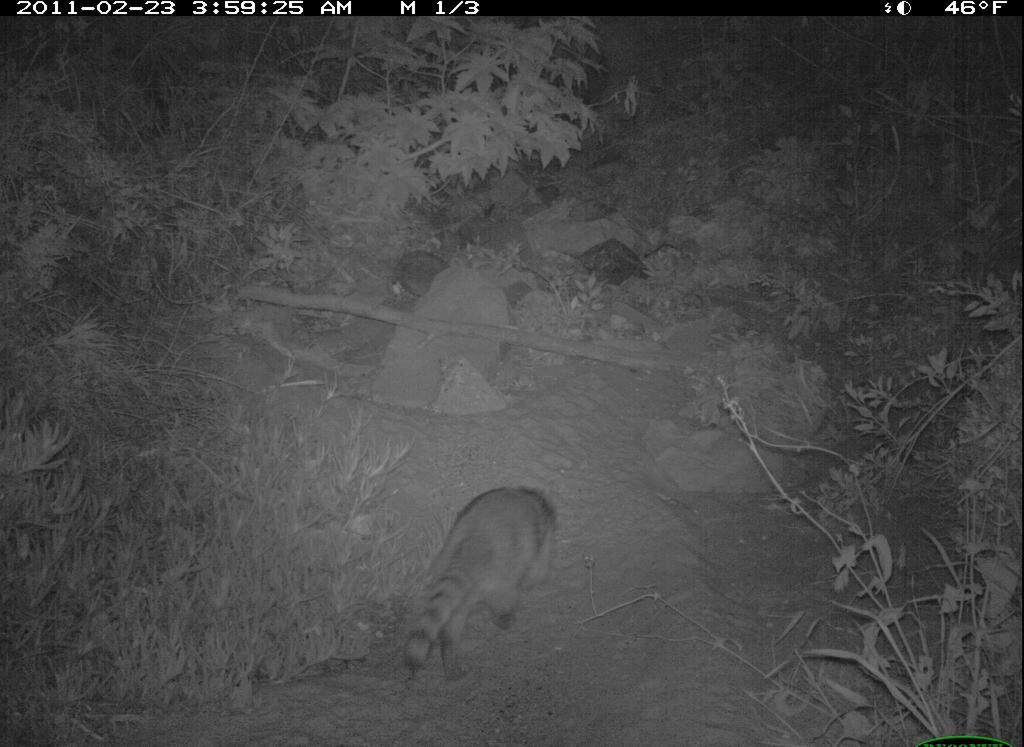raccoon: (401, 479, 565, 689)
